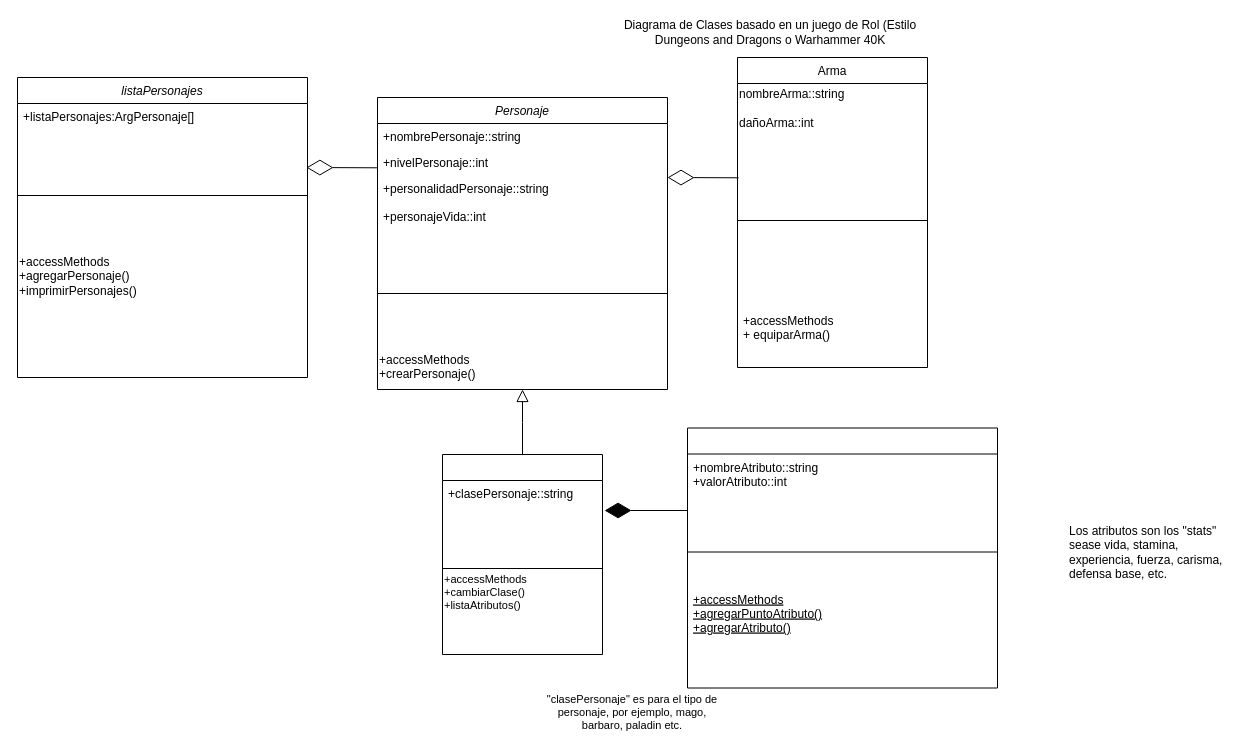
This 1245x749 diagram has some shape labels left out. Each missing label, with the box of its shape:
atributosPersonaje: (686, 427, 998, 688)
TipoPersonaje: (442, 454, 602, 654)
